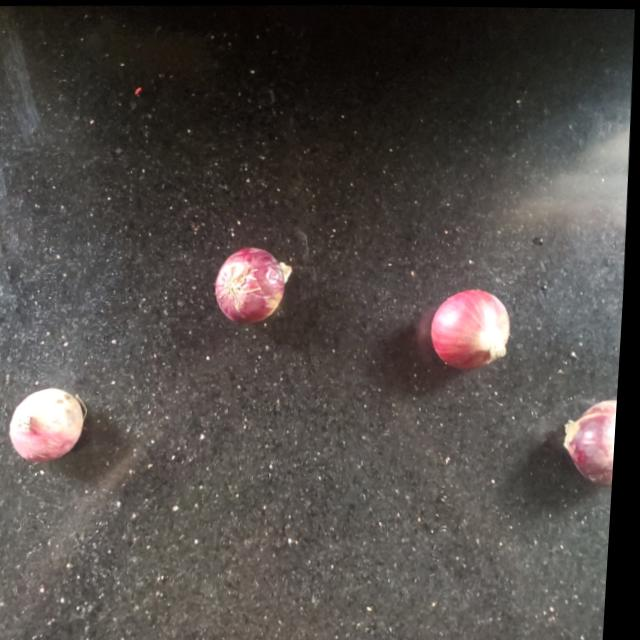onion: (432, 289, 516, 369), (10, 384, 93, 462), (214, 246, 294, 323), (566, 400, 622, 484)
